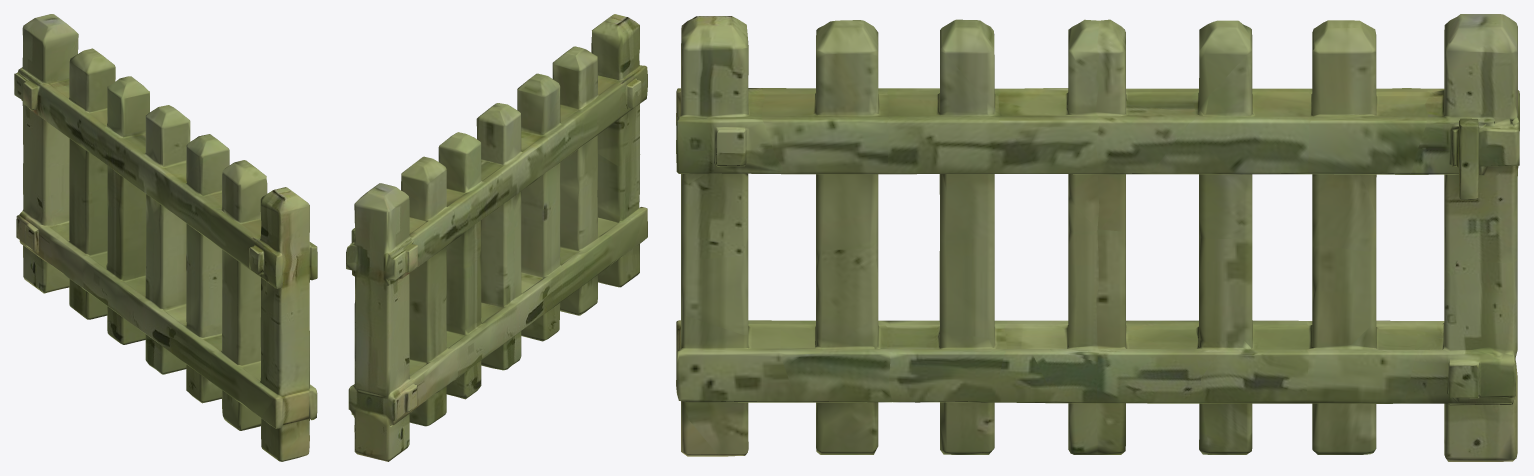
Rendered from fence.glb.
3 renders of one model, left to right at view 1: azimuth 30°, elevation 25°; view 2: azimuth 150°, elevation 25°; view 3: azimuth 270°, elevation 25°, orthographic. The views are drawn at different scales.
Visible parts, largest first — view 1: tripo_node_750e3c68-df1e-4618-b11d-4e7d983e3493; view 2: tripo_node_750e3c68-df1e-4618-b11d-4e7d983e3493; view 3: tripo_node_750e3c68-df1e-4618-b11d-4e7d983e3493.
Part boxes in pixels (x1,y1,x2,y2): tripo_node_750e3c68-df1e-4618-b11d-4e7d983e3493: [14, 14, 317, 461]; tripo_node_750e3c68-df1e-4618-b11d-4e7d983e3493: [346, 14, 647, 461]; tripo_node_750e3c68-df1e-4618-b11d-4e7d983e3493: [676, 14, 1519, 461].
Size of the model in its own units: 0.2377 by 1 by 1.78.
Materials: 1 (1 with a texture image).
